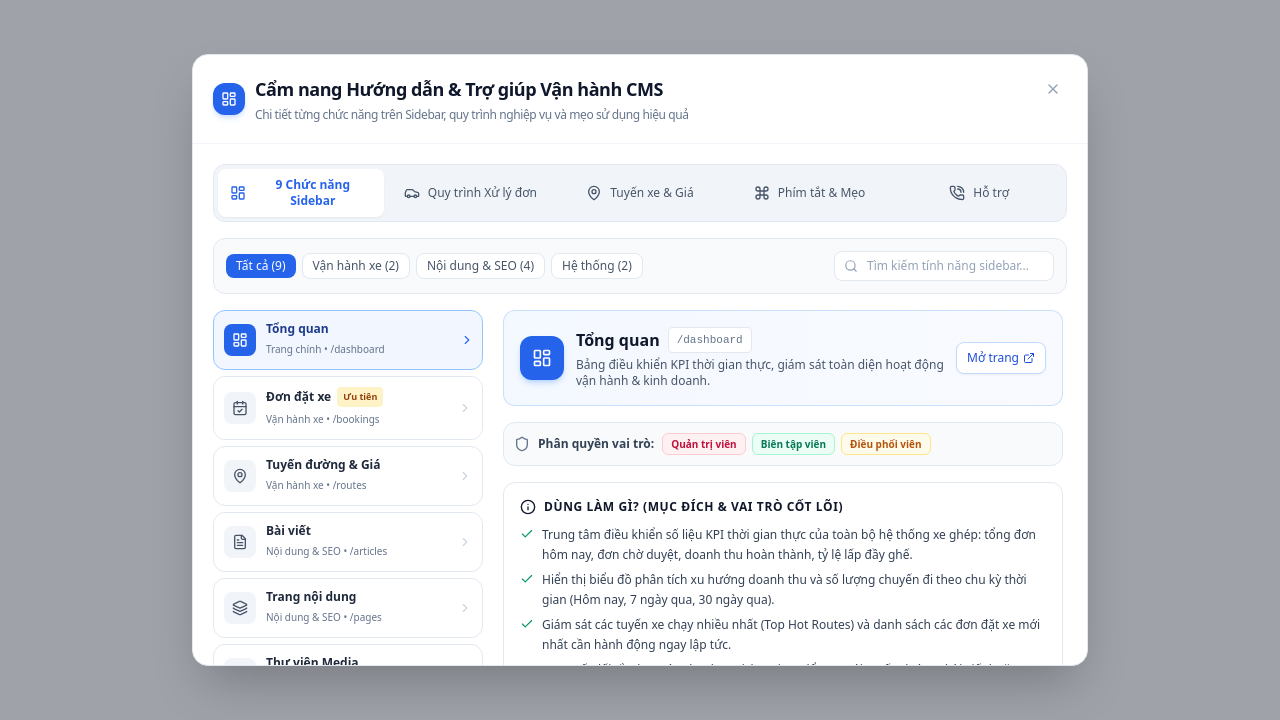
Scenario: QuickHelpModal Component & Sidebar Guides › chuyển đổi xem chi tiết hướng dẫn của Tuyến đường & Giá
Click the button "Tuyến đường & Giá Vận hành xe • /routes" at (348, 476), box left=213, top=446, right=483, bottom=506
(page scrolled)
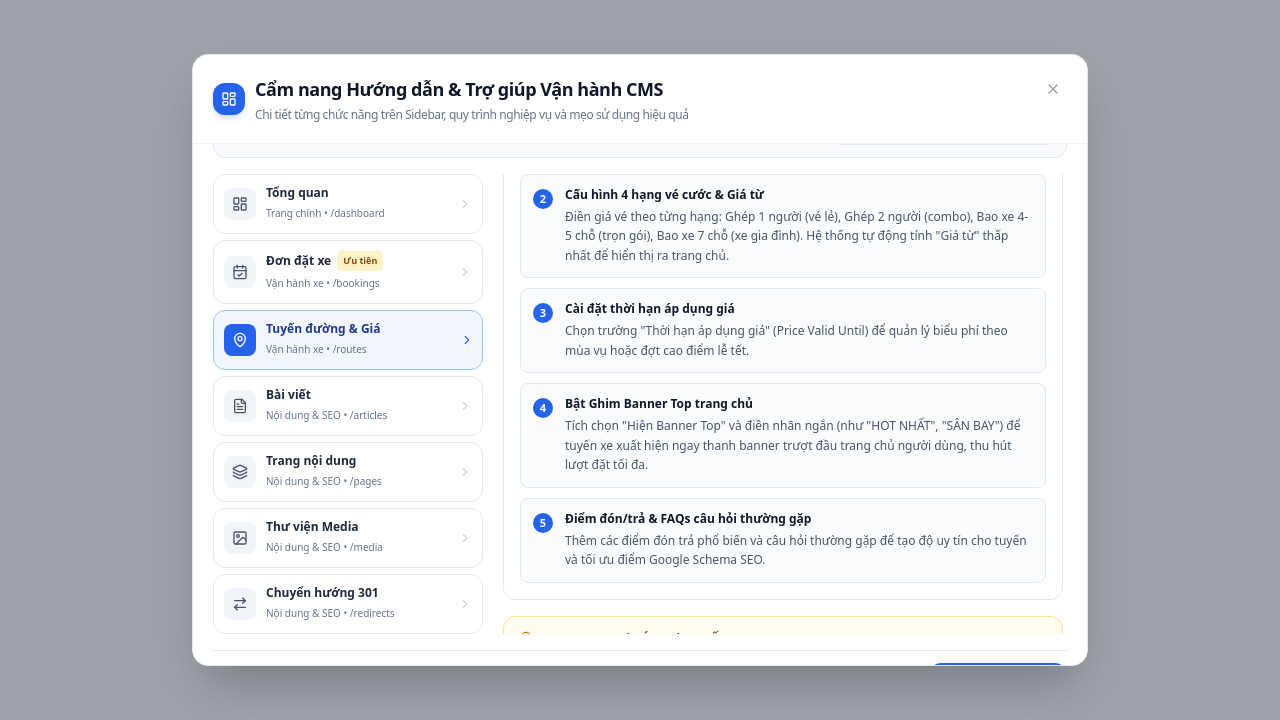
expect the heading "Cấu hình 4 hạng vé cước & Giá từ" is shown: met, box left=565, top=186, right=764, bottom=202
expect the heading "Bật Ghim Banner Top trang chủ" is shown: met, box left=565, top=395, right=753, bottom=412
